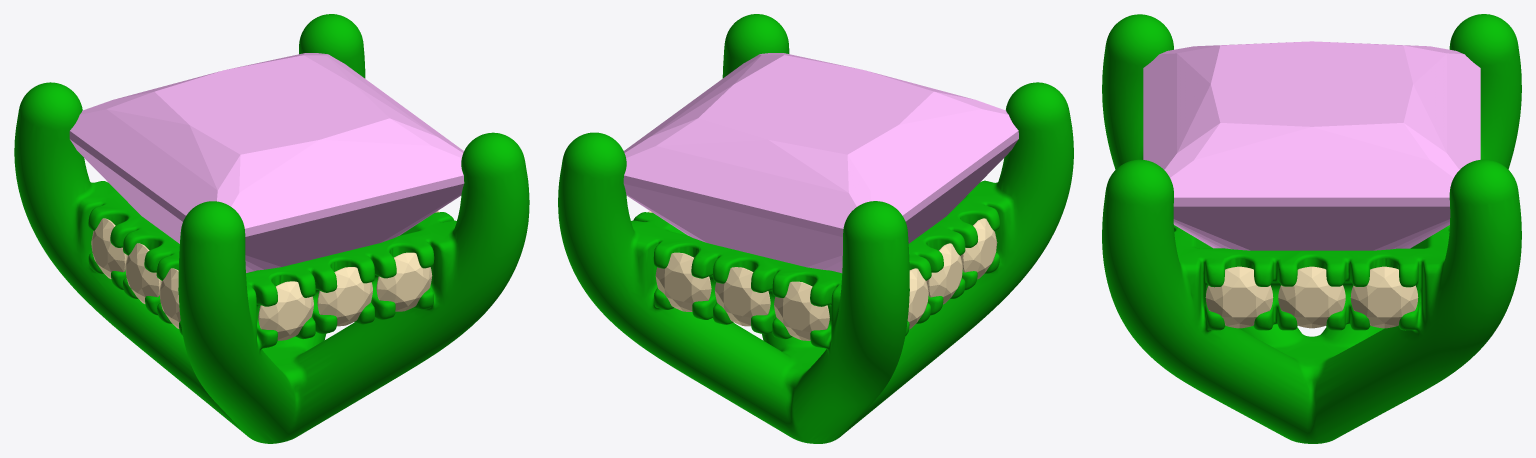
3 renders of one model, left to right at view 1: azimuth 30°, elevation 25°; view 2: azimuth 150°, elevation 25°; view 3: azimuth 270°, elevation 25°, orthographic. The views are drawn at different scales.
Visible parts, largest first — view 1: Metal01, Diamond_Princess, Diamond_Round.003, Diamond_Round.005, Diamond_Round.004, Diamond_Round.009, Diamond_Round.011, Diamond_Round.010; view 2: Metal01, Diamond_Princess, Diamond_Round.002, Diamond_Round.001, Diamond_Round, Diamond_Round.011, Diamond_Round.010, Diamond_Round.009; view 3: Metal01, Diamond_Princess, Diamond_Round.006, Diamond_Round.007, Diamond_Round.008.
Part boxes in pixels (x1=…): Metal01: x1=14, y1=14, x2=529, y2=443; Diamond_Princess: x1=69, y1=53, x2=464, y2=272; Diamond_Round.003: x1=376, y1=252, x2=432, y2=311; Diamond_Round.005: x1=258, y1=281, x2=313, y2=340; Diamond_Round.004: x1=317, y1=267, x2=372, y2=326; Diamond_Round.009: x1=91, y1=218, x2=127, y2=278; Diamond_Round.011: x1=125, y1=243, x2=161, y2=303; Diamond_Round.010: x1=159, y1=268, x2=180, y2=328; Metal01: x1=558, y1=14, x2=1073, y2=443; Diamond_Princess: x1=623, y1=53, x2=1018, y2=273; Diamond_Round.002: x1=774, y1=281, x2=829, y2=340; Diamond_Round.001: x1=655, y1=252, x2=711, y2=311; Diamond_Round: x1=715, y1=267, x2=770, y2=326; Diamond_Round.011: x1=926, y1=243, x2=962, y2=304; Diamond_Round.010: x1=960, y1=218, x2=997, y2=279; Diamond_Round.009: x1=907, y1=268, x2=928, y2=329; Metal01: x1=1102, y1=14, x2=1521, y2=443; Diamond_Princess: x1=1143, y1=41, x2=1480, y2=250; Diamond_Round.006: x1=1278, y1=266, x2=1345, y2=328; Diamond_Round.007: x1=1205, y1=266, x2=1273, y2=328; Diamond_Round.008: x1=1350, y1=266, x2=1418, y2=328.
Bounding box in the file's own units: 6.86 × 6.3 × 6.86.
